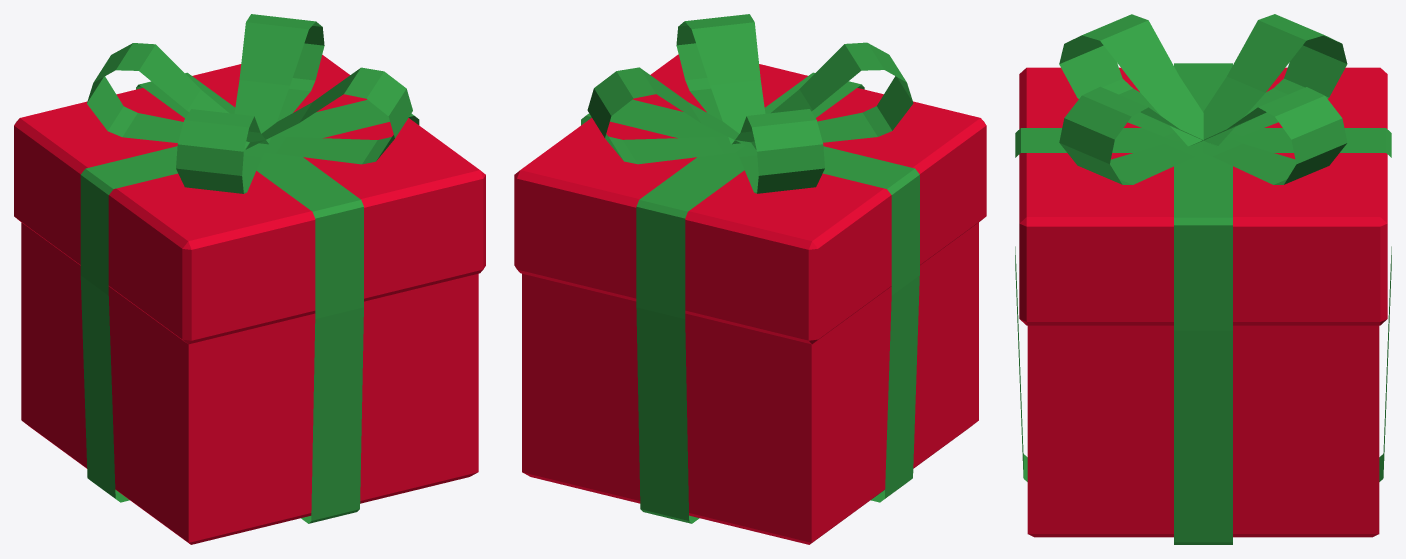
Rendered from present4.glb.
3 views of the same model, side by side, from view 1: azimuth 30°, elevation 25°; view 2: azimuth 150°, elevation 25°; view 3: azimuth 270°, elevation 25° (orthographic). The views are drawn at different scales.
Visible parts, largest first — view 1: Cube.007; view 2: Cube.007; view 3: Cube.007.
Part boxes in pixels (x1,y1,x2,y2): Cube.007: (14, 14, 485, 544); Cube.007: (514, 14, 986, 544); Cube.007: (1015, 14, 1391, 544).
Size of the model in its own units: 0.5125 by 0.6122 by 0.5125.
